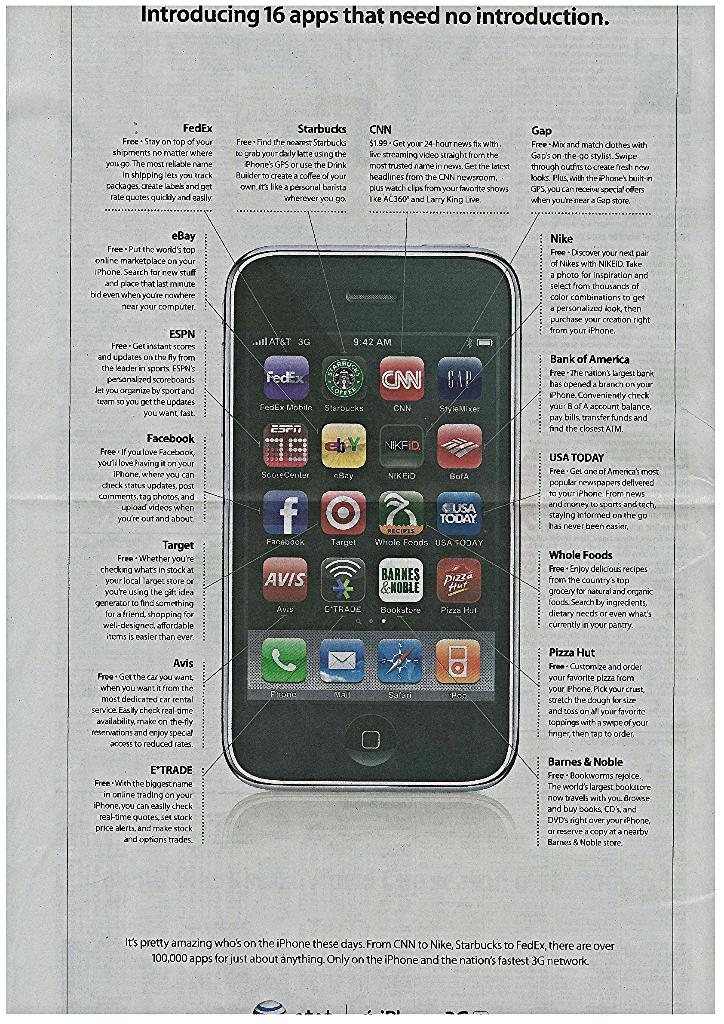Mobile-phone: (230, 242, 514, 783)
